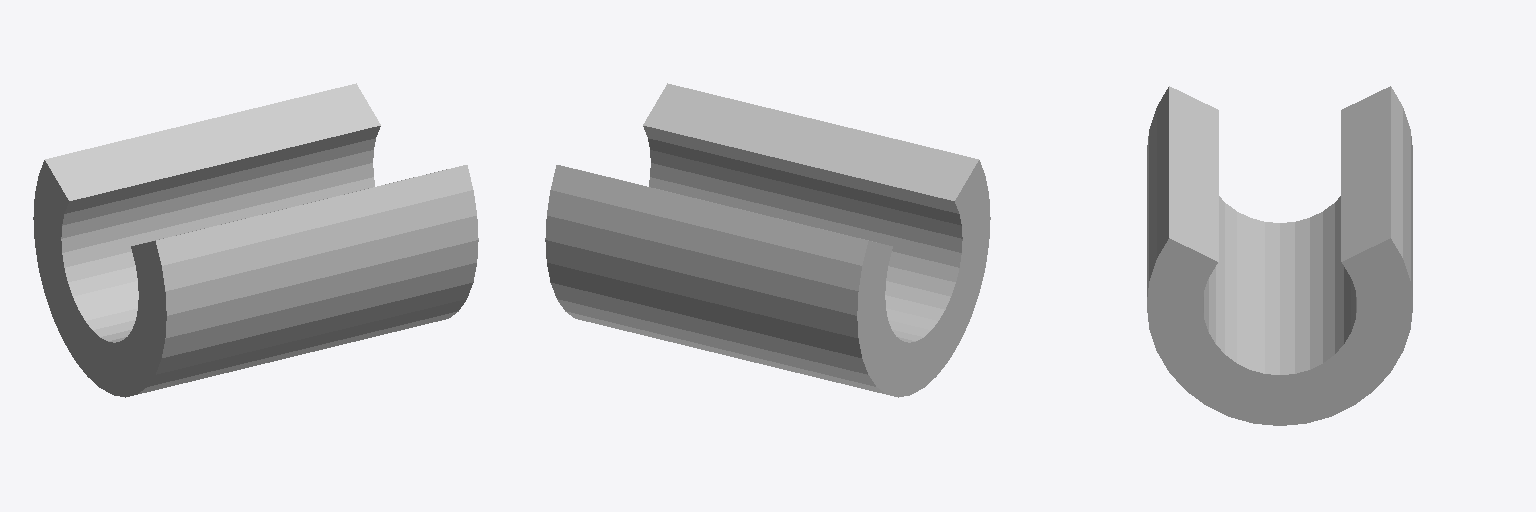
File: celery.obj
3 renders of one model, left to right at view 1: azimuth 30°, elevation 25°; view 2: azimuth 150°, elevation 25°; view 3: azimuth 270°, elevation 25°, orthographic.
Visible parts, largest first — view 1: Cylinder; view 2: Cylinder; view 3: Cylinder.
Part boxes in pixels (left/top/right/bottom): Cylinder: left=33, top=83, right=478, bottom=397; Cylinder: left=545, top=83, right=990, bottom=397; Cylinder: left=1147, top=86, right=1412, bottom=425.
Bounding box in the file's own units: 2.7 × 1.56 × 2.